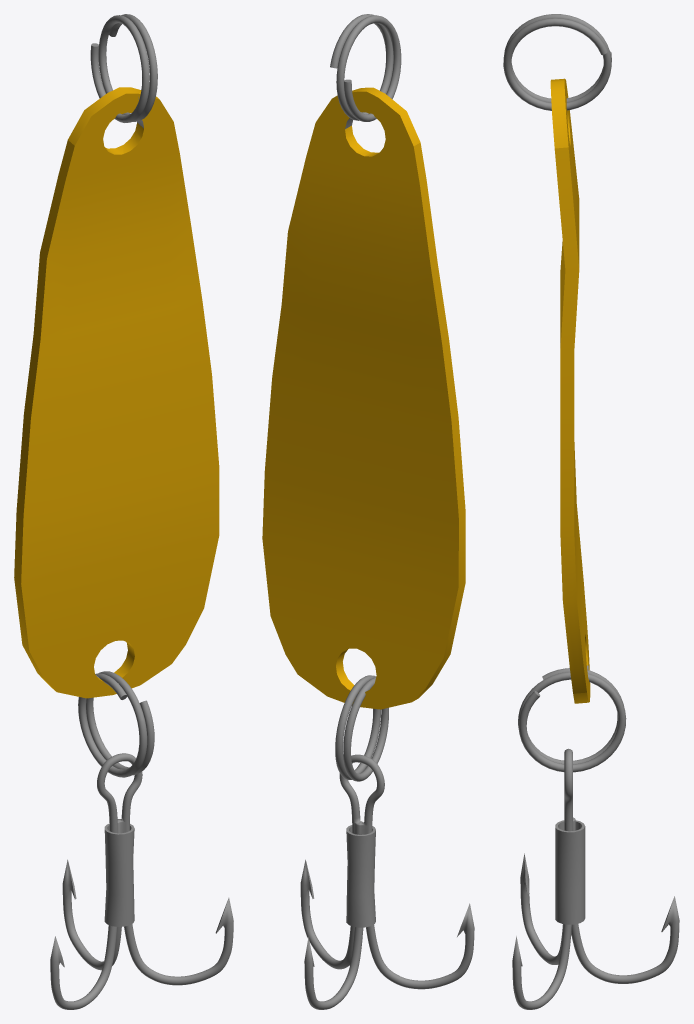
The model's file is Spinner Lure.fbx.
The picture shows the model from 3 angles, left to right: view 1: azimuth 30°, elevation 25°; view 2: azimuth 150°, elevation 25°; view 3: azimuth 270°, elevation 25°; orthographic projection.
Parts seen in each view (by area): view 1: Box002_lure_0.001, Box002_lure_0; view 2: Box002_lure_0.001, Box002_lure_0; view 3: Box002_lure_0, Box002_lure_0.001.
Boxes of the visible parts, x1,y1,x2,y2 form: Box002_lure_0.001: (14, 87, 219, 698); Box002_lure_0: (50, 14, 233, 1009); Box002_lure_0.001: (262, 87, 465, 709); Box002_lure_0: (300, 14, 474, 1009); Box002_lure_0: (503, 14, 679, 1009); Box002_lure_0.001: (550, 78, 590, 703).
Bounding box in the file's own units: 28.08 × 131 × 21.63.
